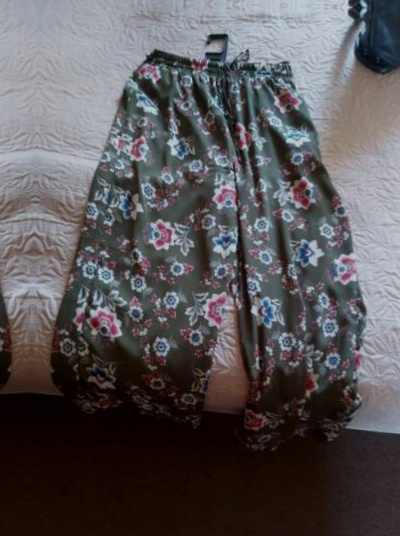Pants: (61, 40, 376, 470), (0, 30, 7, 460)
